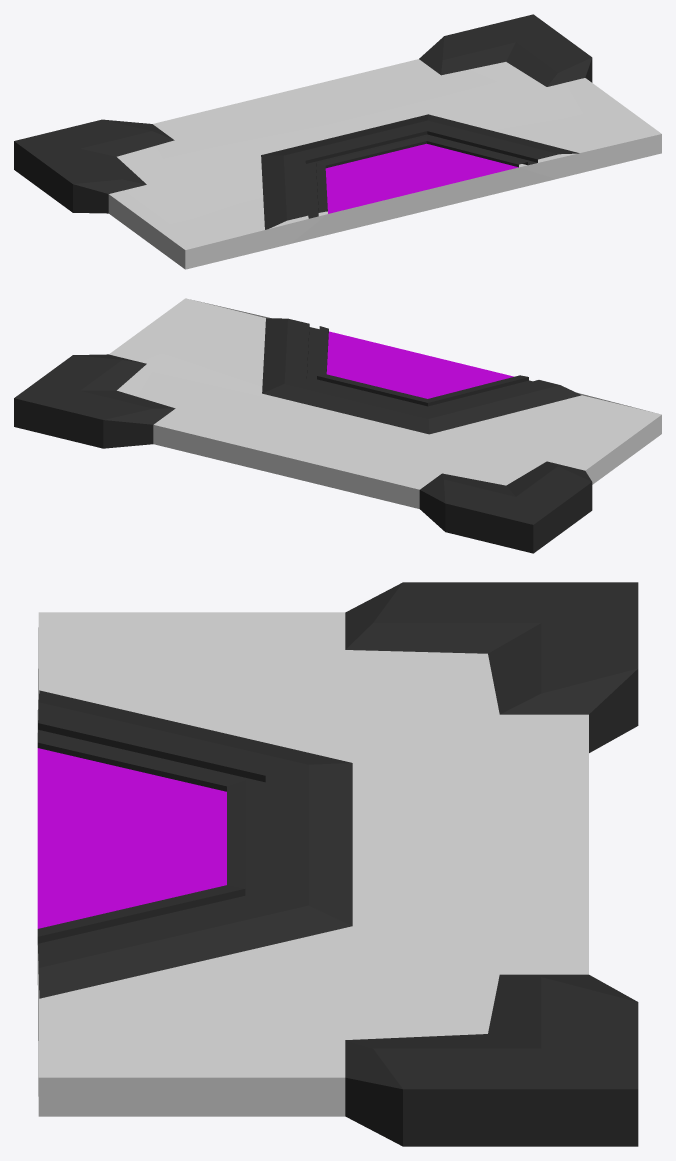
The model's file is Blender_HalfBasePlatform.fbx.
The picture shows the model from 3 angles, top to bottom: view 1: azimuth 30°, elevation 25°; view 2: azimuth 150°, elevation 25°; view 3: azimuth 270°, elevation 25°; orthographic projection. The views are drawn at different scales.
Visible parts, largest first — view 1: pCube1; view 2: pCube1; view 3: pCube1.
Boxes of the visible parts, x1=… form: pCube1: x1=14, y1=14, x2=661, y2=269; pCube1: x1=14, y1=298, x2=661, y2=553; pCube1: x1=37, y1=582, x2=638, y2=1146.
Size of the model in its own units: 501 by 26.76 by 251.
